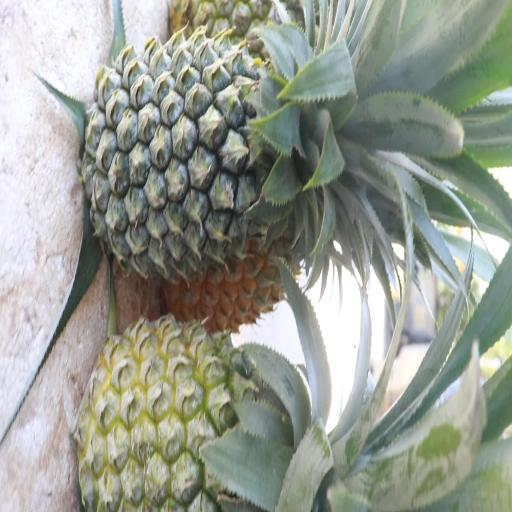------------------------------: (81, 324, 321, 512)
